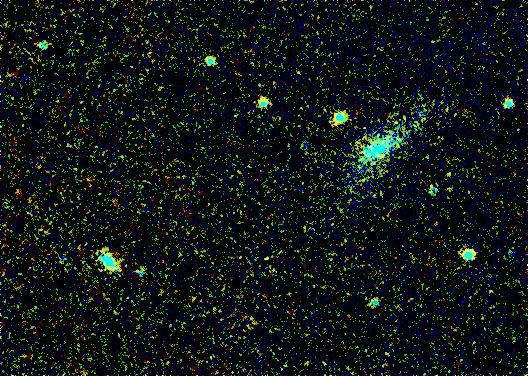star: (253, 242, 283, 272)
